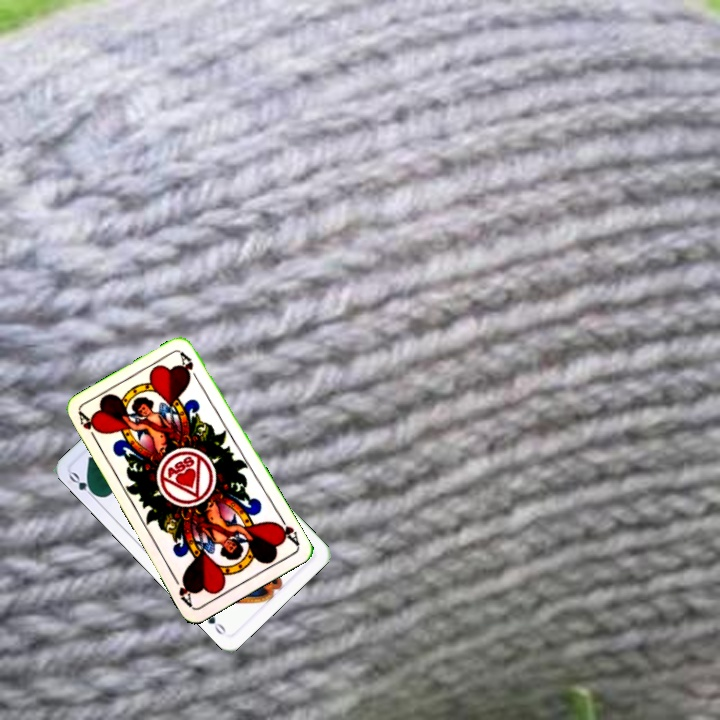GO: (65, 468, 100, 502)
HA: (271, 511, 302, 548), (75, 408, 101, 446)
